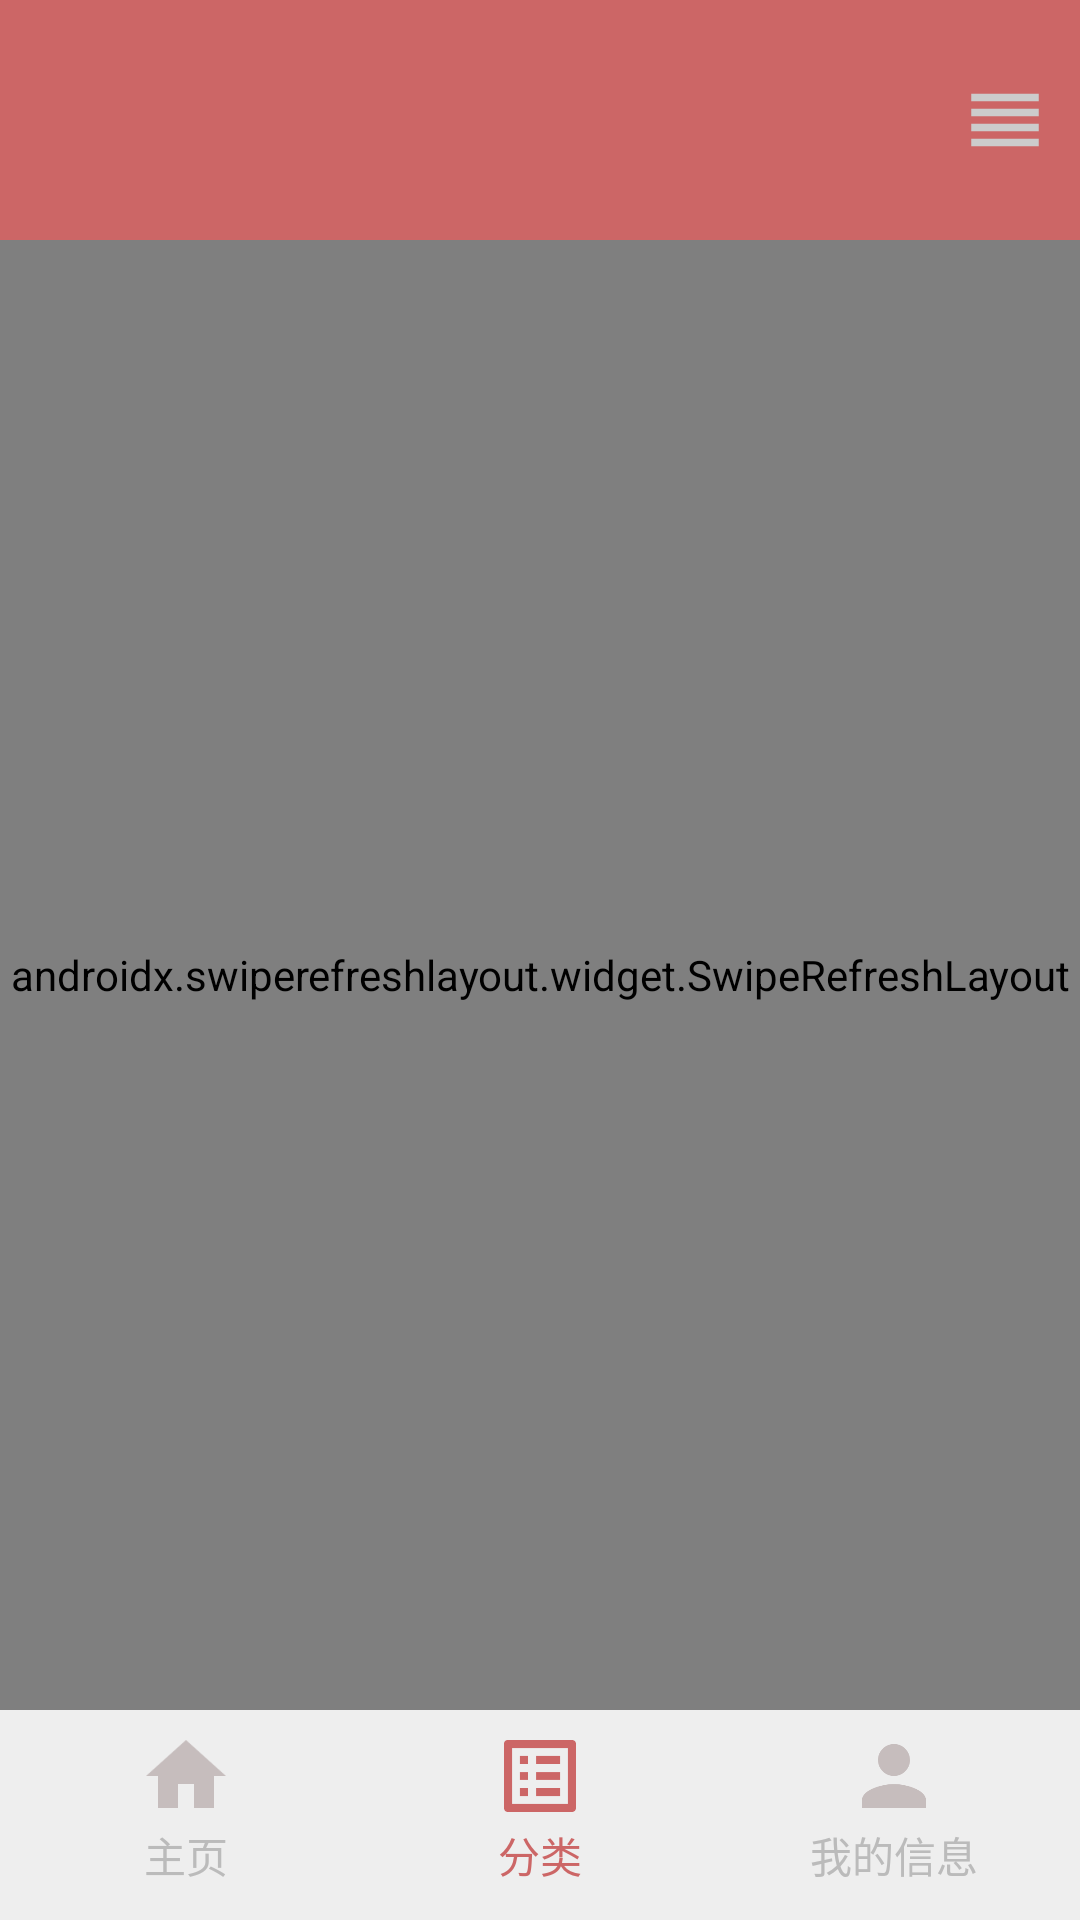

Icons on this 1080px×1920px Android screen, each with its box as [x1,y1,x2,y2]:
list: [504,1740,576,1812]
person: [862,1744,926,1808]
reorder: [971,93,1039,147]
